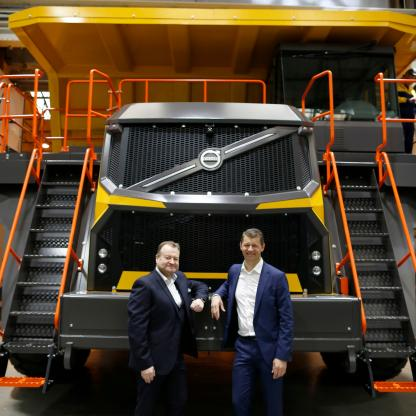dump_truck: (7, 2, 414, 413)
person: (211, 229, 297, 416), (123, 235, 208, 416)
